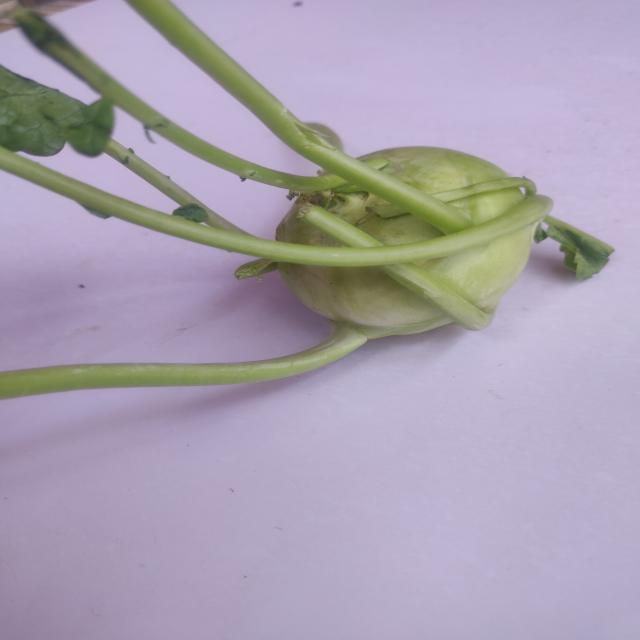Turnip: (4, 3, 585, 437)
